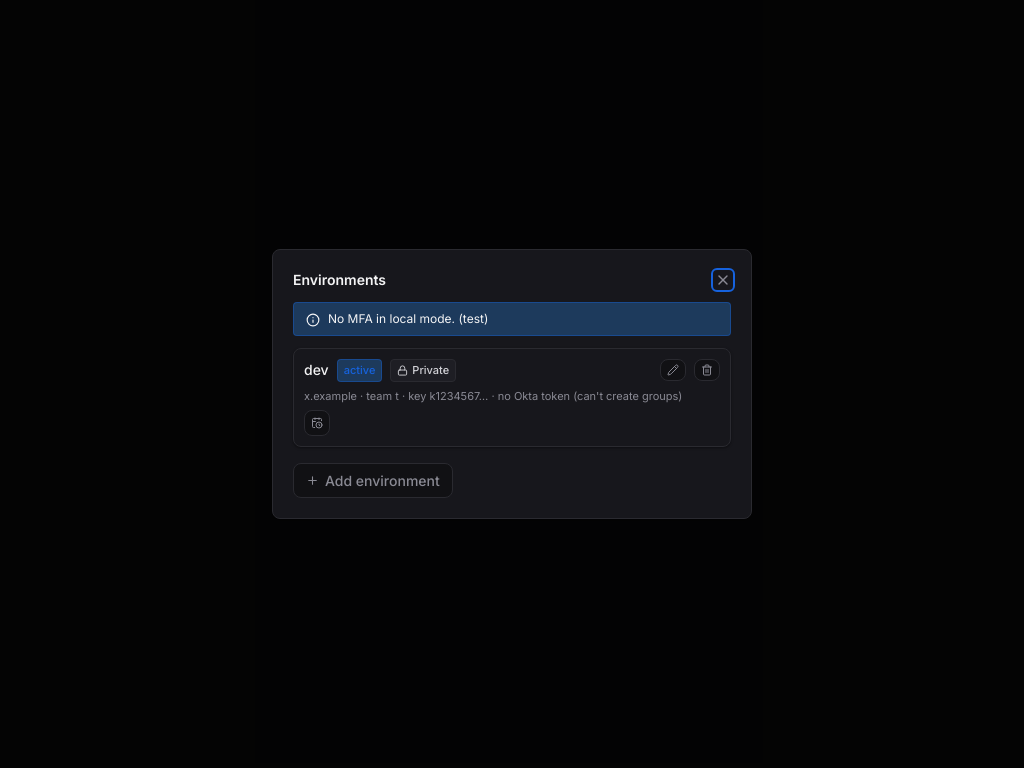
EnvironmentManagerDialog › "Saved, but could not connect" closes the form and refreshes the list
Click the button named "Edit dev".
click(673, 370)  # box [660, 359, 686, 381]
(page scrolled)
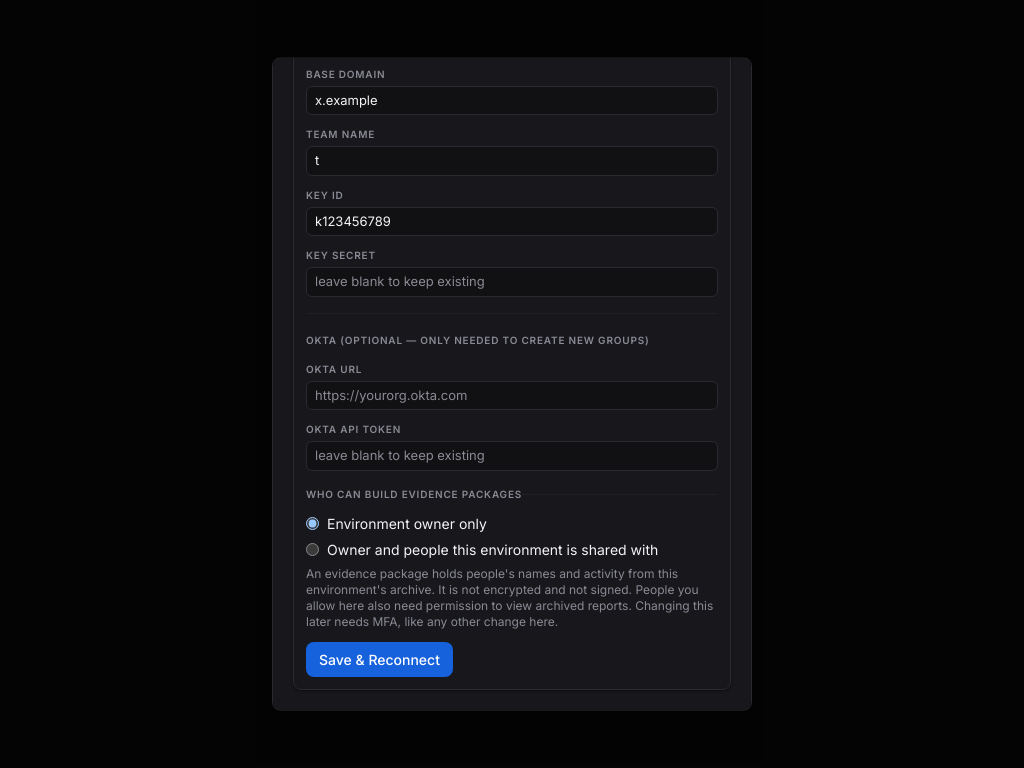
Click the button "Save & Reconnect".
click(380, 659)  # box [306, 641, 453, 676]
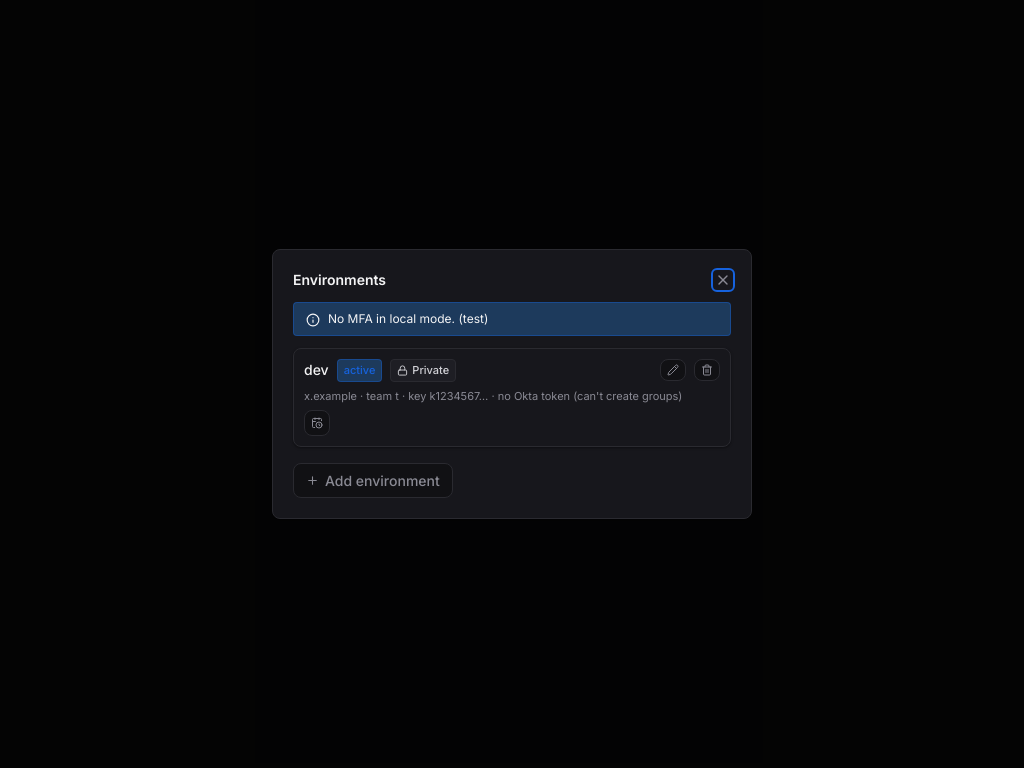
Expected: the button "Save & Reconnect" is gone
